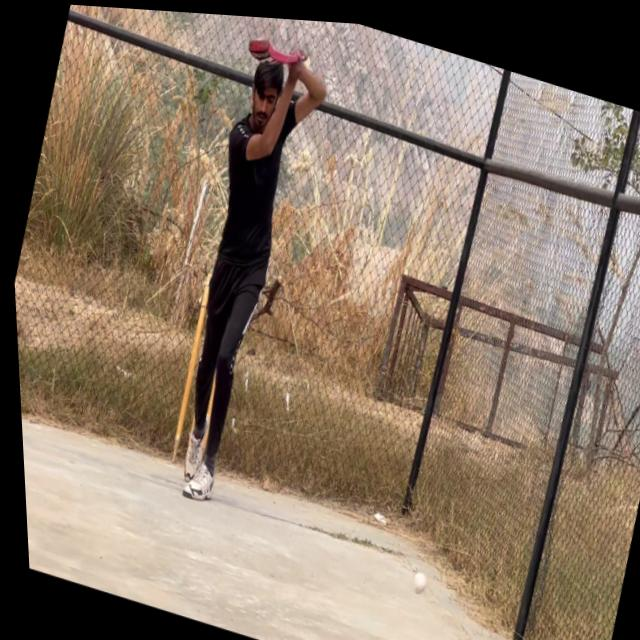Batsman: (123, 24, 349, 530)
